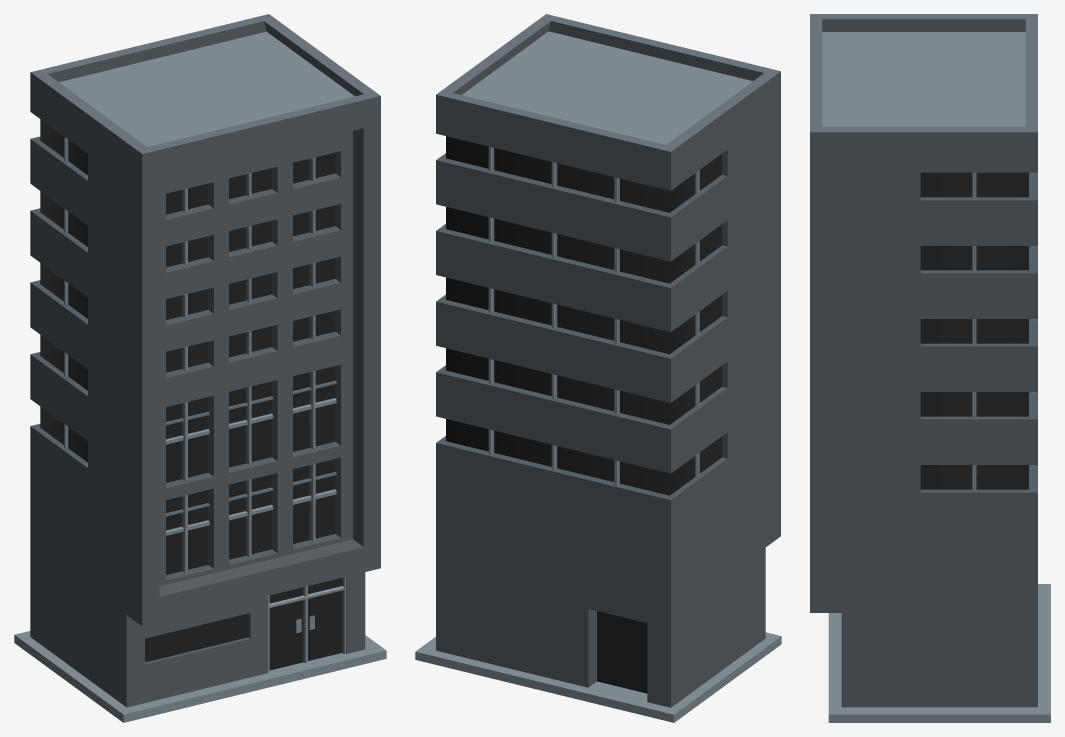
The model's file is SM_Gen_Bld_Background_03.fbx.
The picture shows the model from 3 angles, left to right: view 1: azimuth 30°, elevation 25°; view 2: azimuth 150°, elevation 25°; view 3: azimuth 270°, elevation 25°; orthographic projection. The views are drawn at different scales.
Parts seen in each view (by area): view 1: SM_Gen_Bld_Background_03; view 2: SM_Gen_Bld_Background_03; view 3: SM_Gen_Bld_Background_03.
Part boxes in pixels (x1,y1,x2,y2): SM_Gen_Bld_Background_03: (14, 14, 386, 722); SM_Gen_Bld_Background_03: (415, 14, 781, 722); SM_Gen_Bld_Background_03: (810, 14, 1050, 722).
Bounding box in the file's own units: 835 × 1739 × 650.
